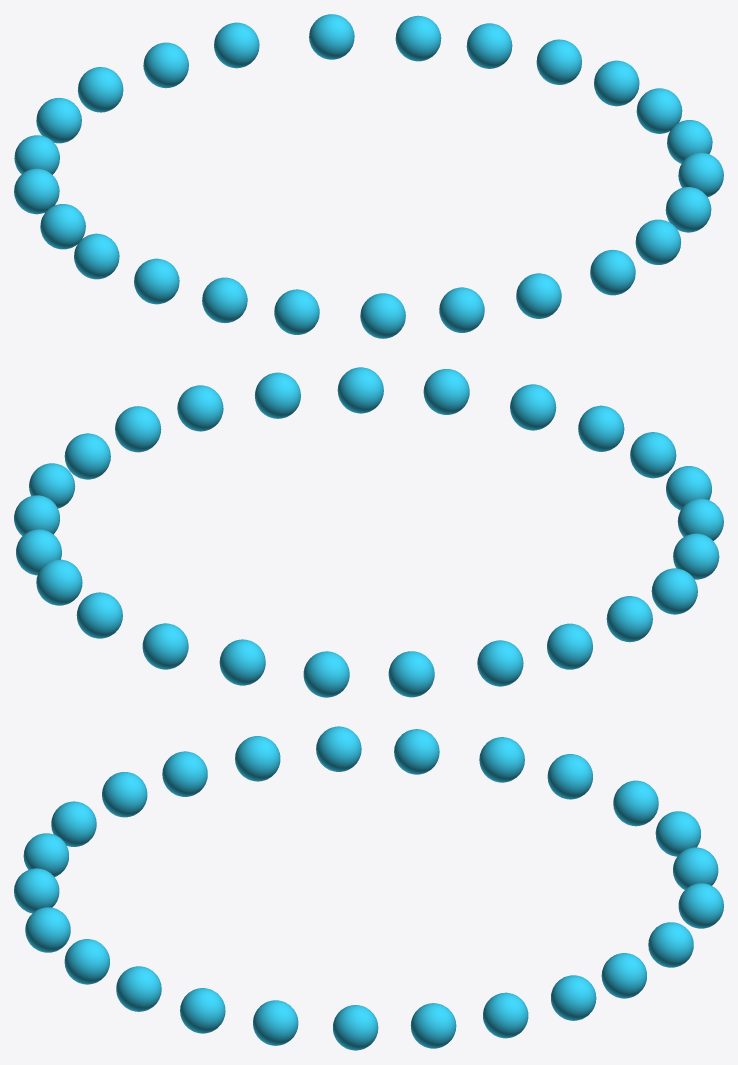
3 renders of one model, top to bottom at view 1: azimuth 30°, elevation 25°; view 2: azimuth 150°, elevation 25°; view 3: azimuth 270°, elevation 25°, orthographic.
Parts seen in each view (by area): view 1: Sphere048; view 2: Sphere048; view 3: Sphere048.
Part boxes in pixels (<box>): Sphere048: <box>14,14,723,338</box>; Sphere048: <box>14,367,723,697</box>; Sphere048: <box>14,726,723,1050</box>.
Size of the model in its own units: 127 by 8.22 by 128.
